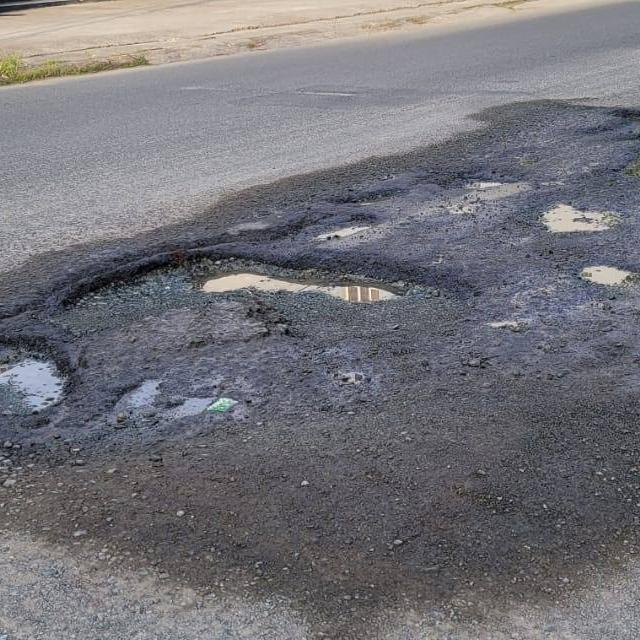lubang_kecil: (32, 197, 439, 350), (76, 373, 296, 440), (0, 313, 82, 450)
